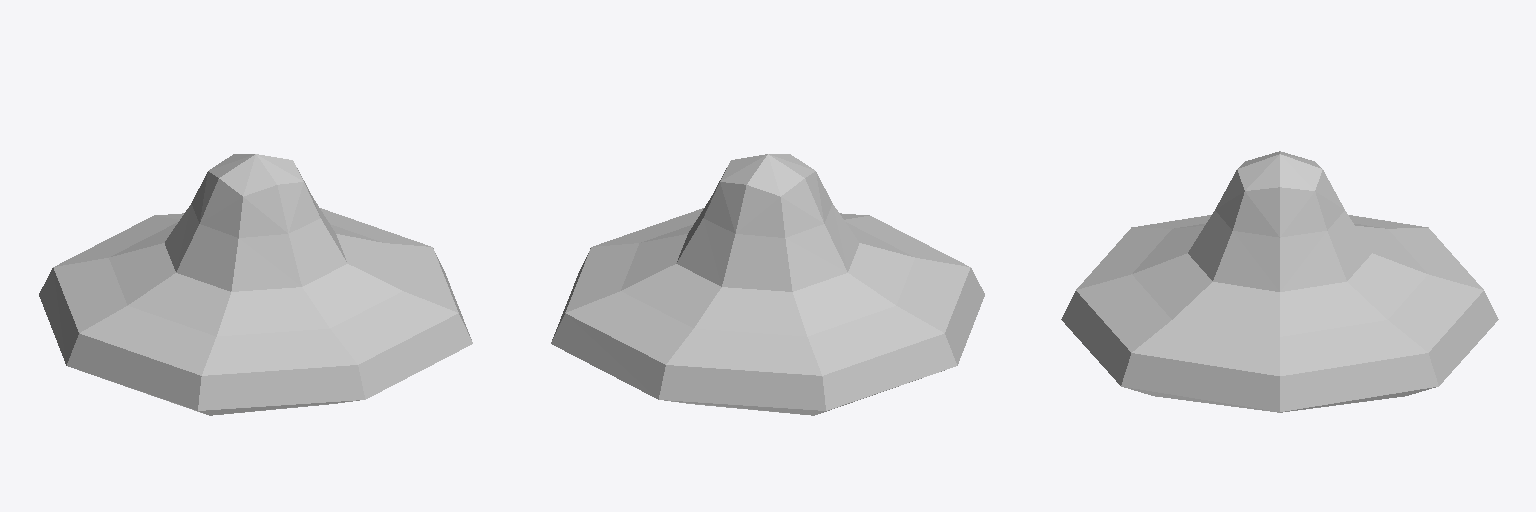
File: alien.obj
The picture shows the model from 3 angles: view 1: azimuth 30°, elevation 25°; view 2: azimuth 150°, elevation 25°; view 3: azimuth 270°, elevation 25°; orthographic projection.
Parts seen in each view (by area): view 1: Cube; view 2: Cube; view 3: Cube.
Boxes of the visible parts, <box> form: Cube: <box>39,154,472,415</box>; Cube: <box>551,154,984,415</box>; Cube: <box>1061,151,1498,412</box>.
Bounding box in the file's own units: 2.7 × 1.39 × 2.7.